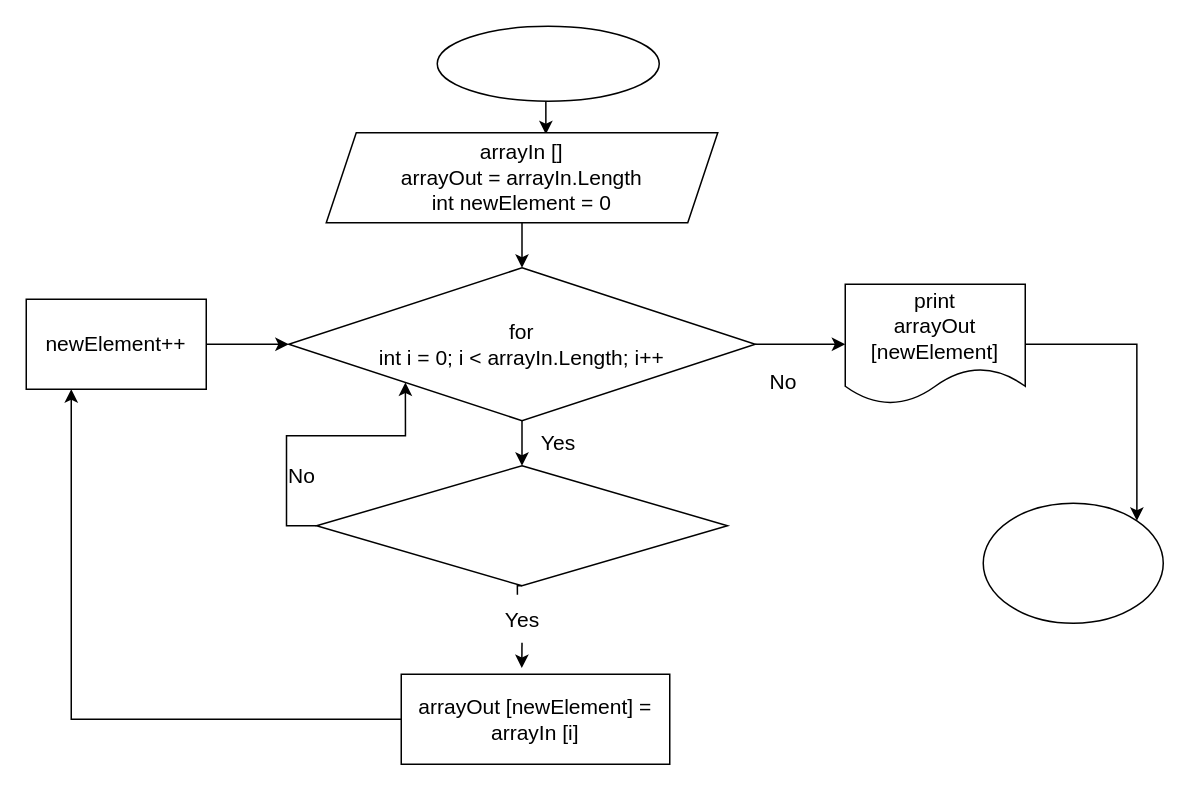
Image size: 1190x791. Some labels were removed from this diagram. The centre of each missing label's shape, as x and y in pixels:
"END" belongs at point (1072, 562).
"if arrayIn[i].Length <= 3" belongs at point (521, 525).
"START" belongs at point (547, 63).
